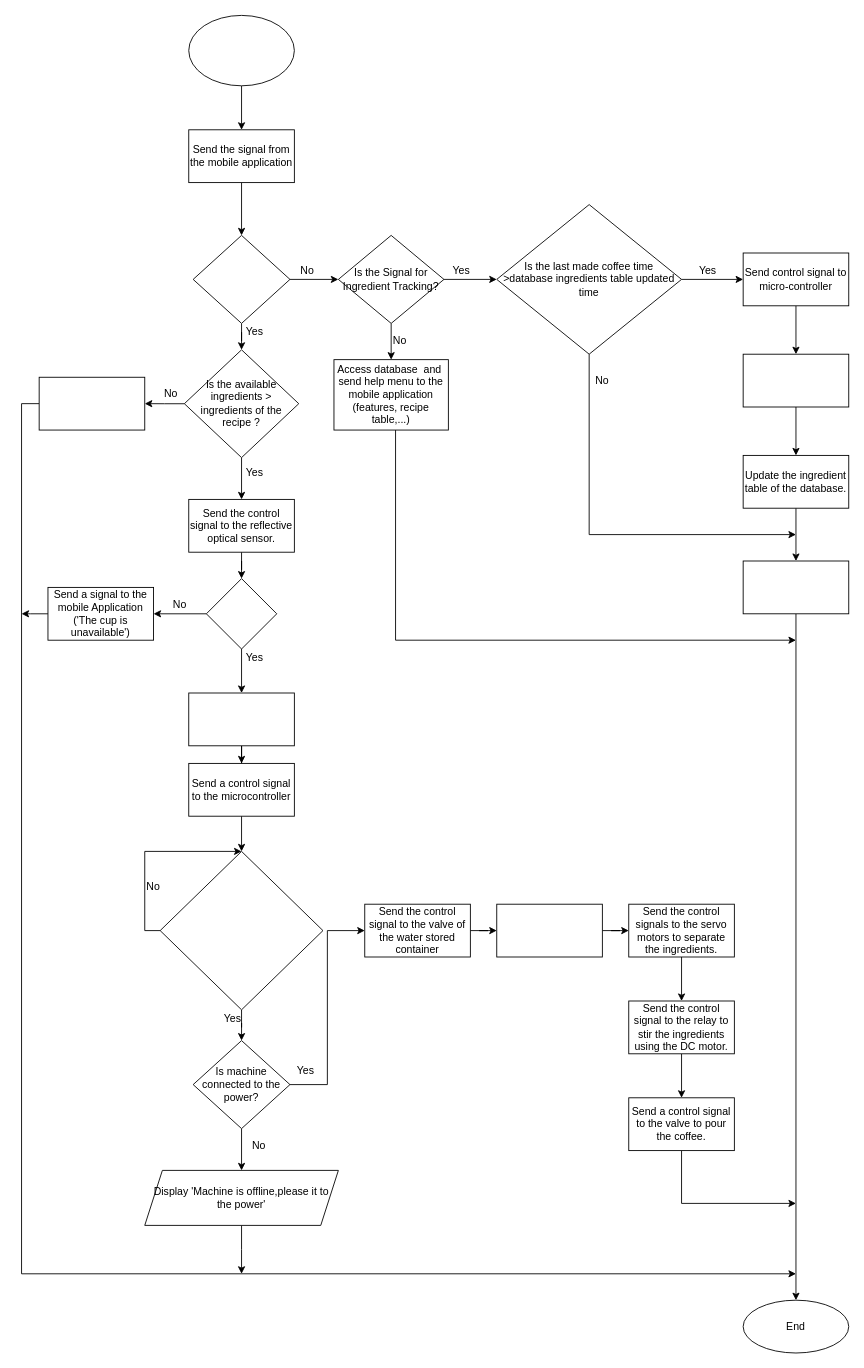
Some shapes in this 864 by 1368 pixel diagram are drawn without their labels. Each missing label, with the box of its shape:
Is the cup available ?: (205, 578, 277, 649)
Is the scheduled time - 10 min == current time ?: (159, 851, 323, 1010)
Is the signal for coffee making?: (192, 235, 290, 323)
Read data via ultra sonic sensors and calculate the ingredient availability..: (742, 353, 849, 407)
Send a signal to the mobile Application: (38, 376, 145, 430)
Send scheduled time, recipe to the database and update relevant tables: (188, 692, 294, 746)
Send the control signal to the heater to boil the water (for 2 min): (496, 903, 602, 957)
Send the updated data to the Mobile Application.: (742, 560, 849, 614)
Start: (188, 15, 294, 86)
